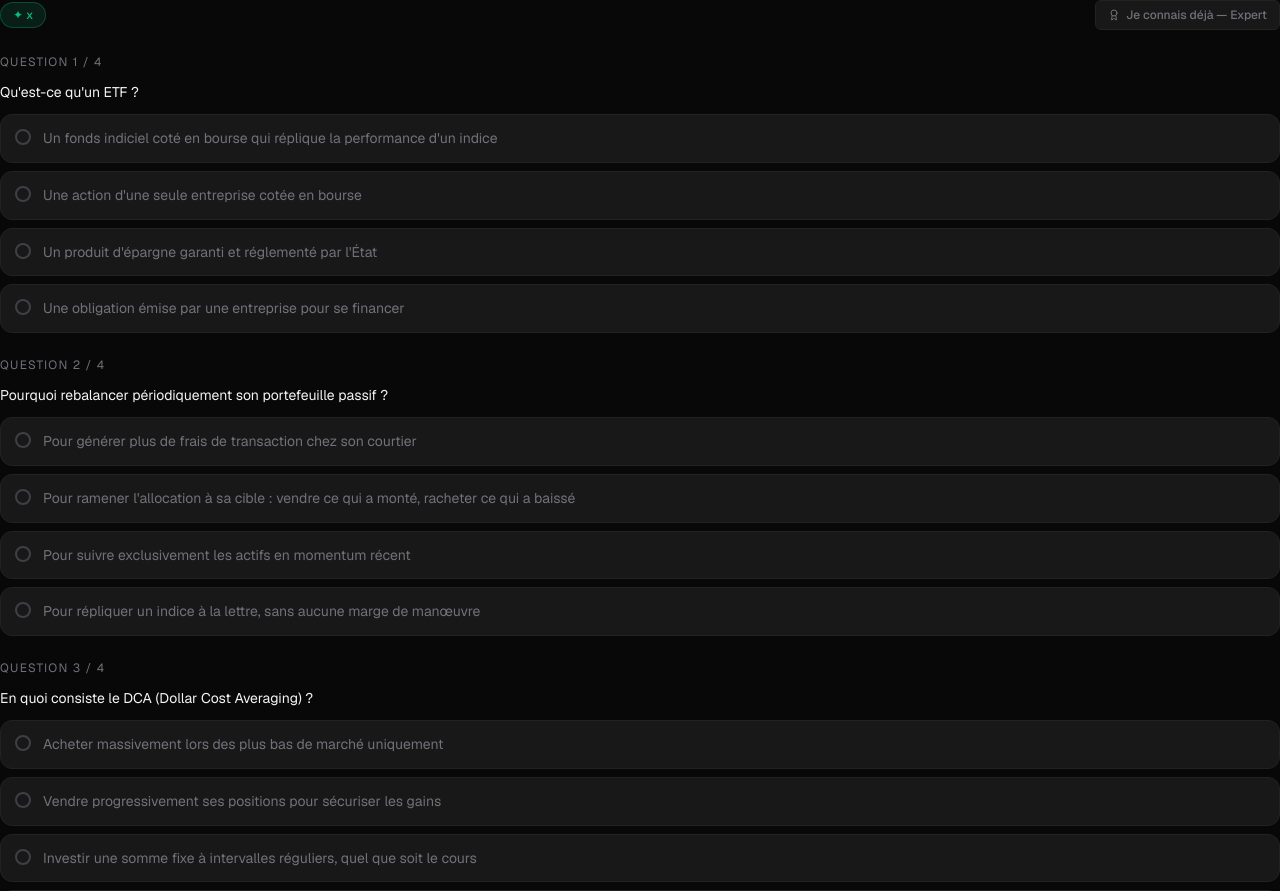
Test case: QuizStep + ConfirmDialog (consolidation 2) › click « Je connais déjà » → ouvre la modal (pas de window.confirm)
# Clic sur le bouton « Je connais déjà — Expert »
Click the button "Je connais déjà — Expert" at point(1188, 15), box [1095,0,1279,30]
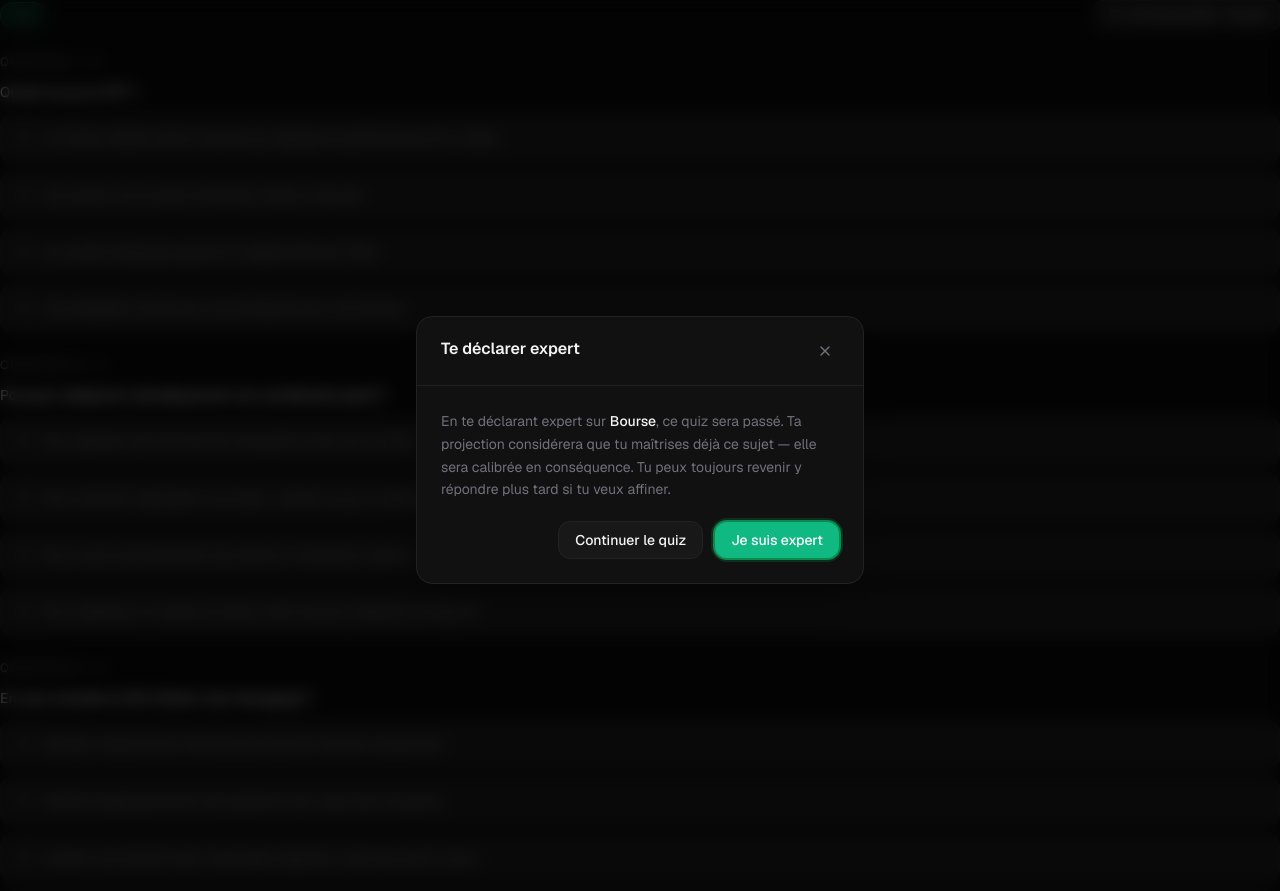
Check: the element with test id "confirm-dialog" is shown, box [441,410,839,559]
Check: the heading "Te déclarer expert" is shown, box [441,337,580,361]
